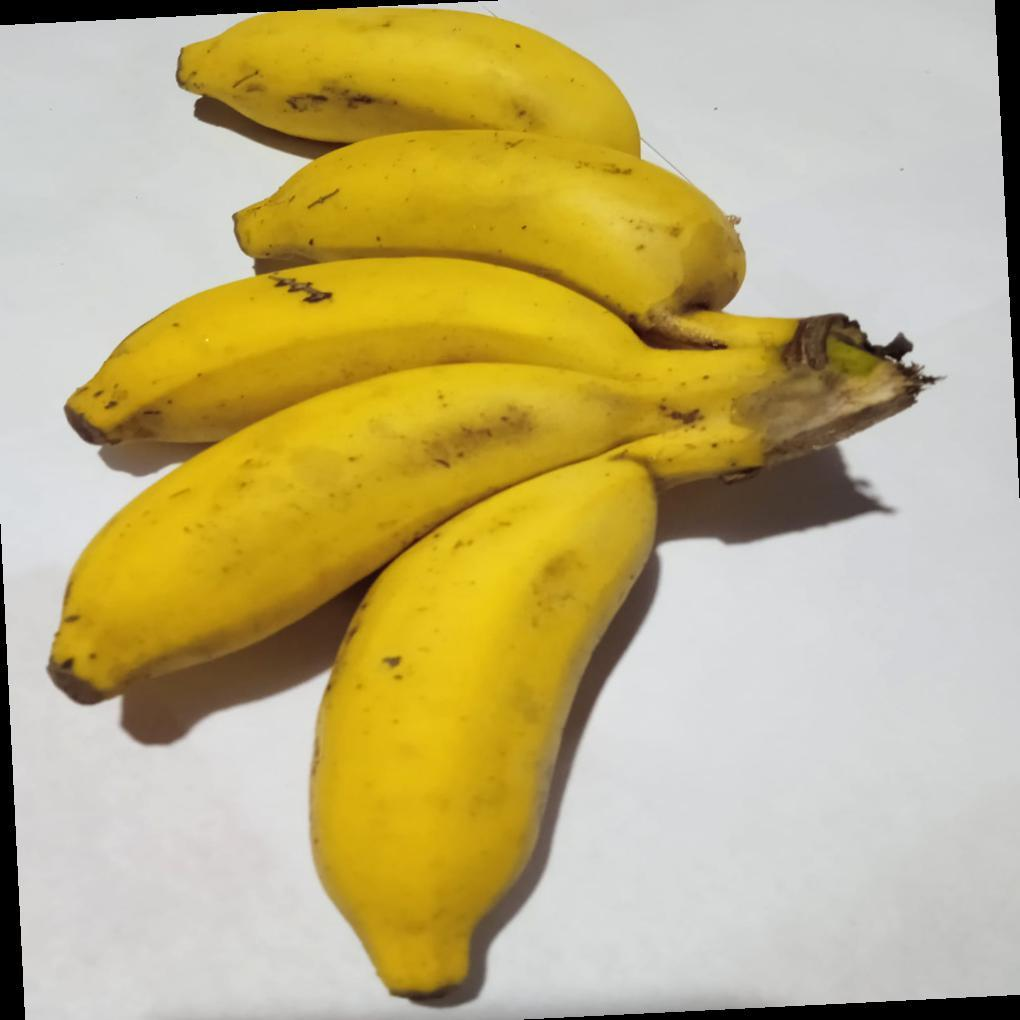Banana Ripe: (37, 345, 917, 1020), (106, 126, 879, 640), (161, 10, 896, 437), (270, 375, 748, 1020)
